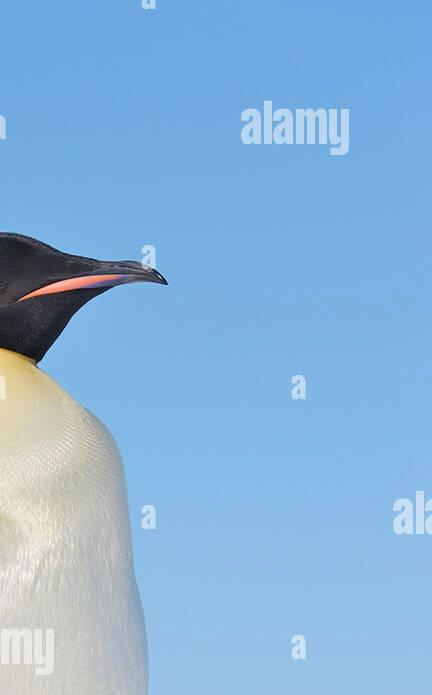Emperor Penguin: (0, 200, 224, 695)
